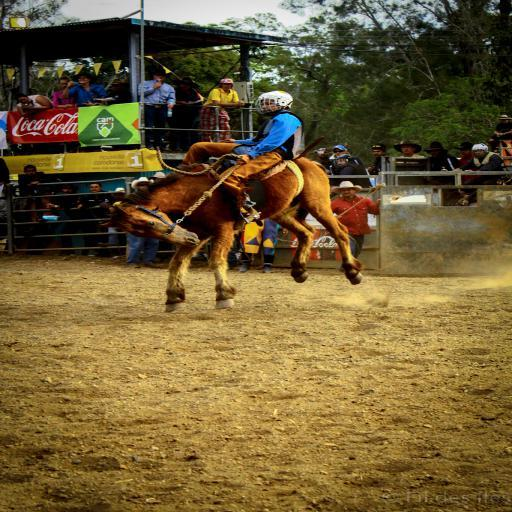Horse: (99, 157, 366, 313)
